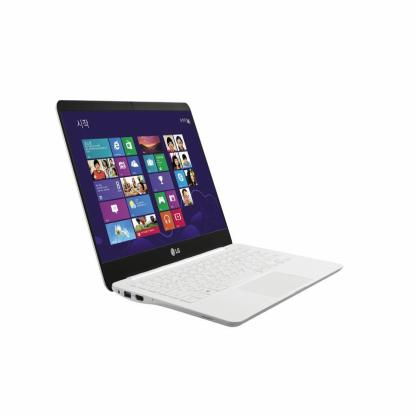board: (55, 99, 344, 329)
